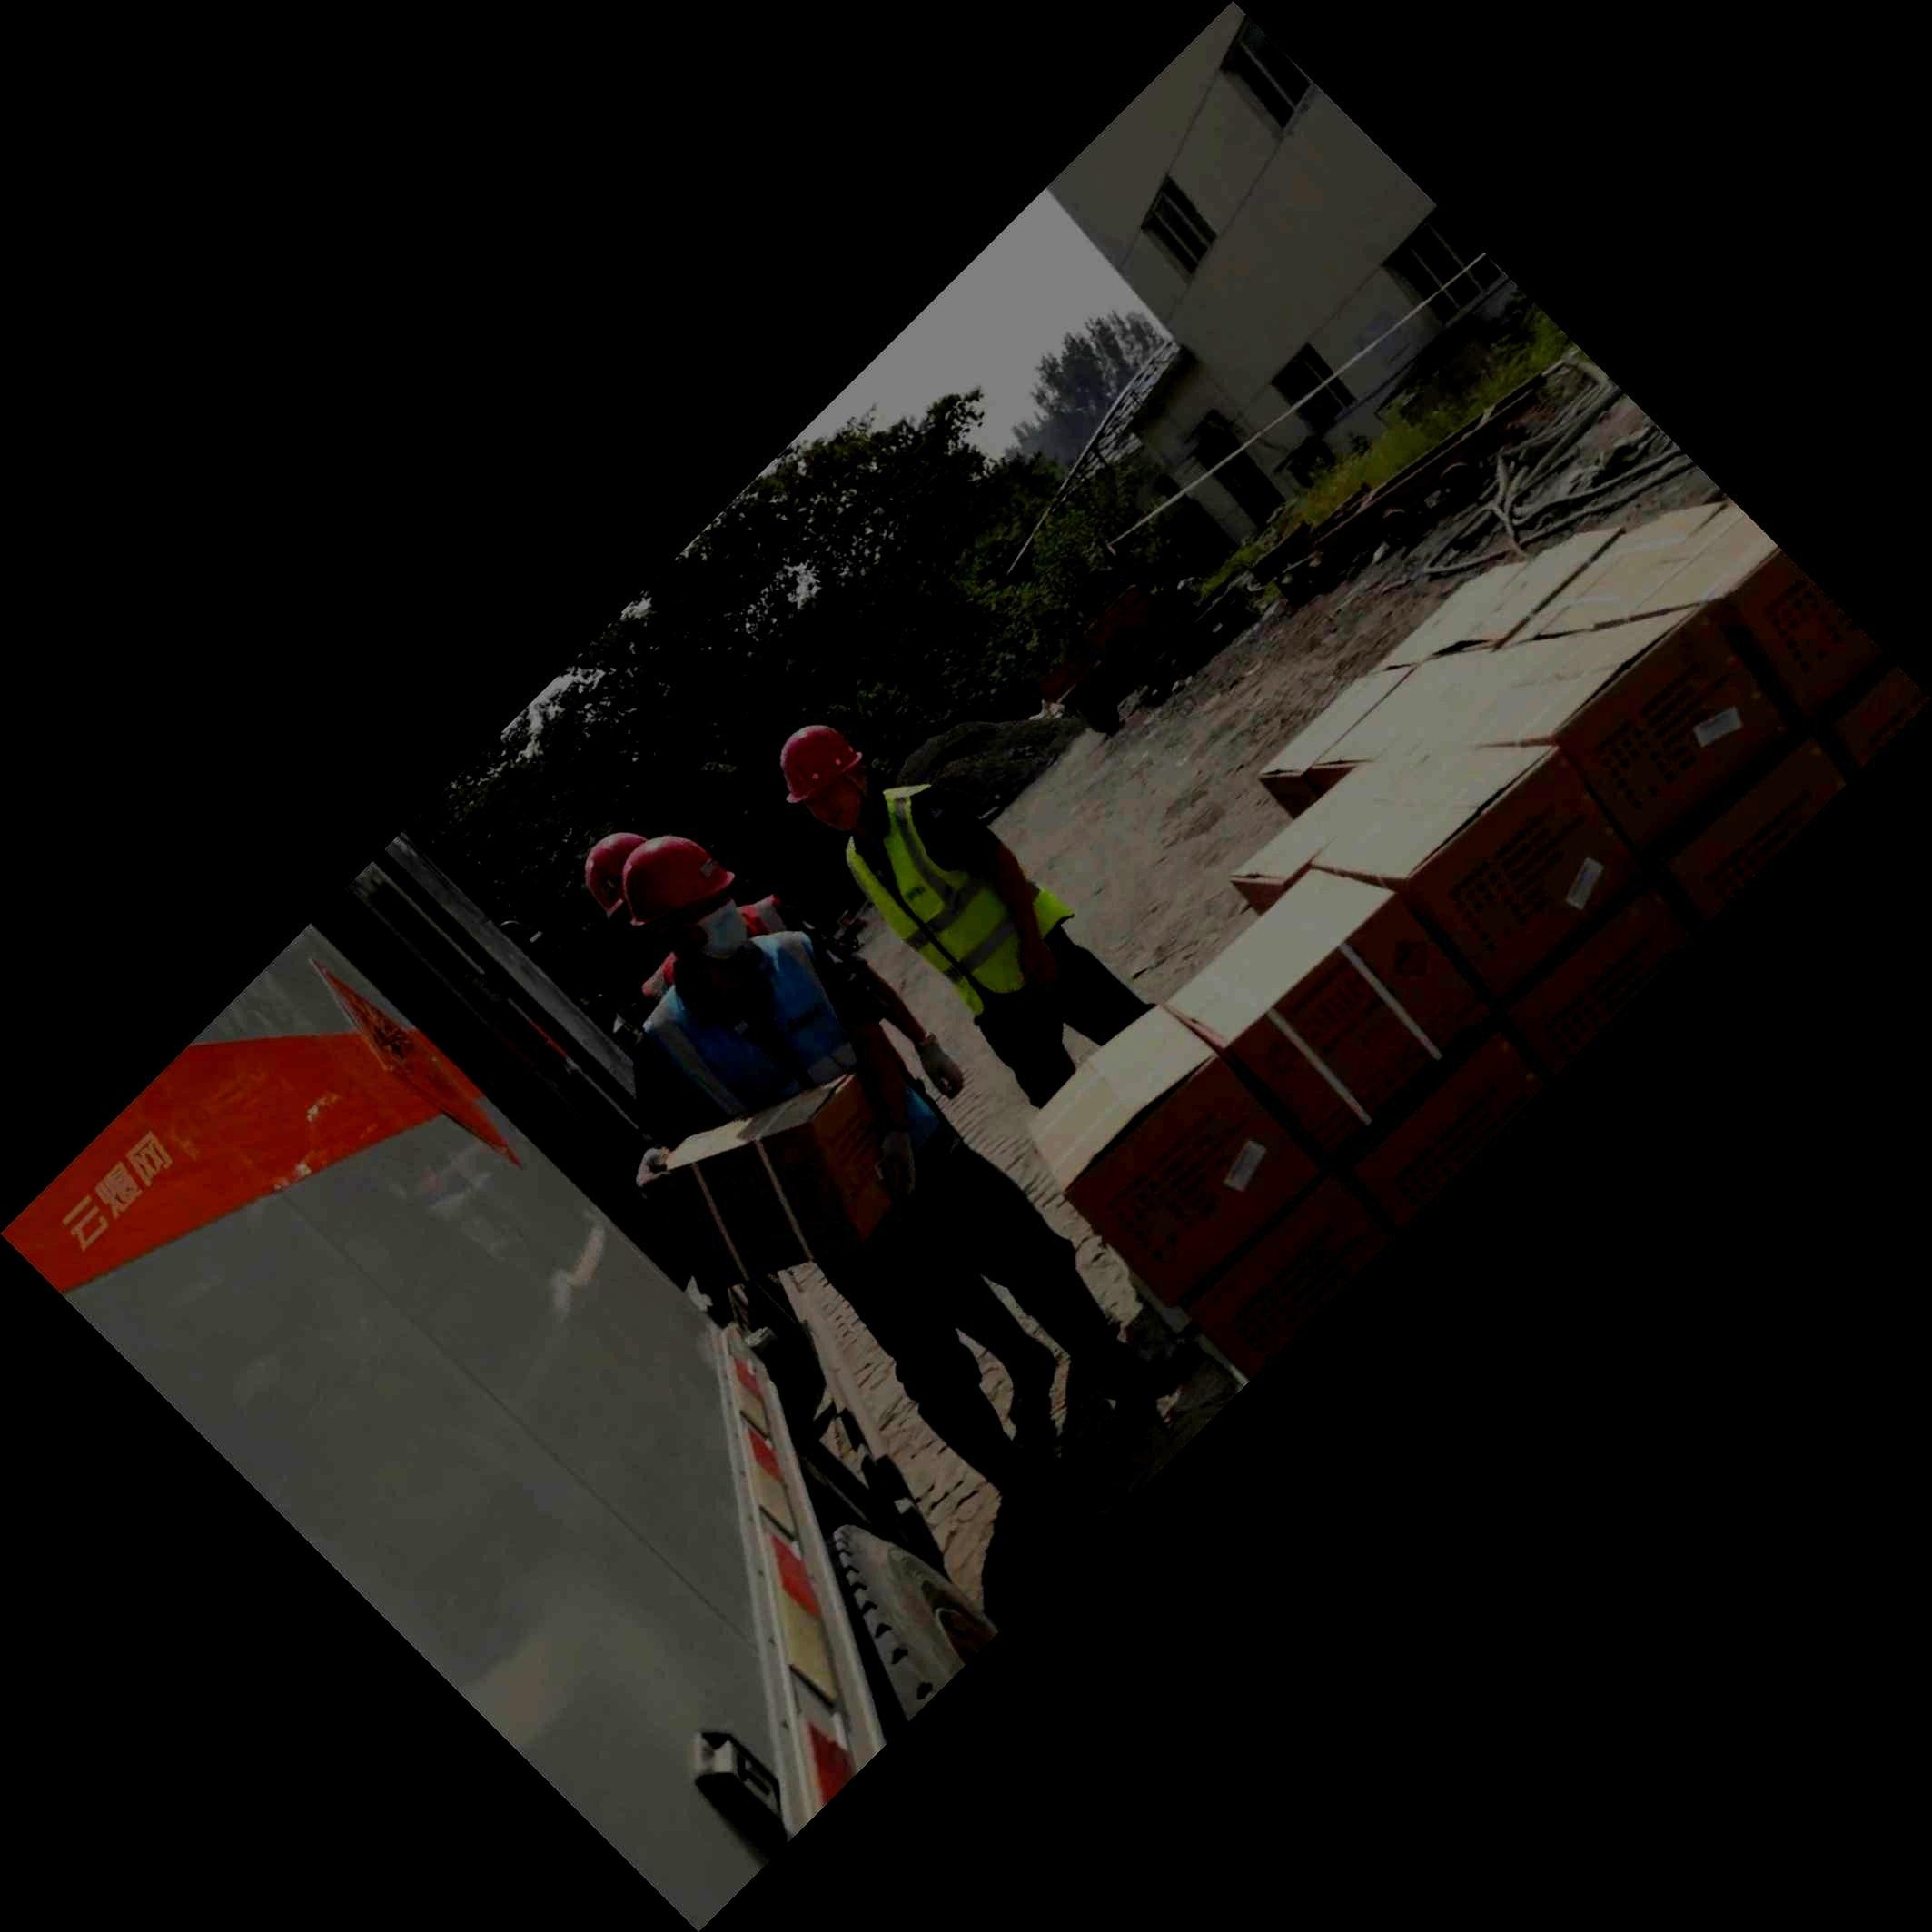helmet: (623, 835, 747, 959), (778, 725, 869, 832), (584, 832, 649, 920)
